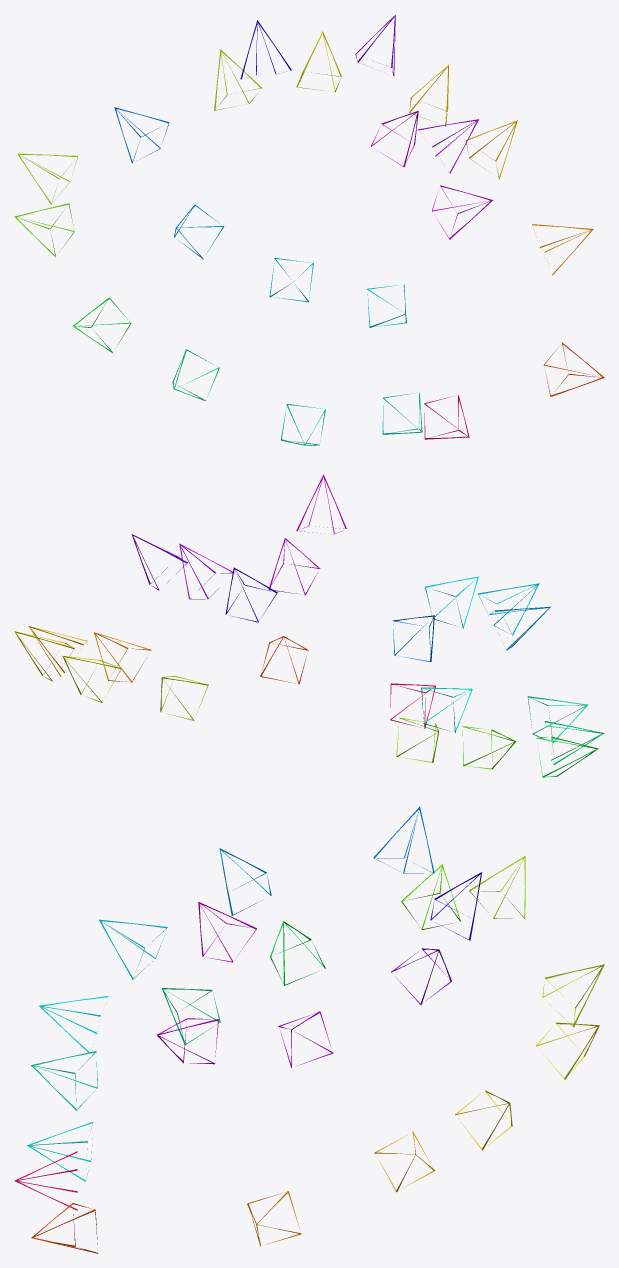
Rendered from scene_conf50.0_blackFalse_whiteTrue_camTrue_skyFalse_max1000k.glb.
3 views of the same model, one above another, from view 1: azimuth 30°, elevation 25°; view 2: azimuth 150°, elevation 25°; view 3: azimuth 270°, elevation 25° (orthographic). The views are drawn at different scales.
Parts seen in each view (by area): view 1: world; view 2: world; view 3: world.
Boxes of the visible parts, x1,y1,x2,y2 form: world: (14,15,604,445); world: (14,474,604,777); world: (14,806,604,1253).
Size of the model in its own units: 1.35 by 0.7283 by 1.19.
